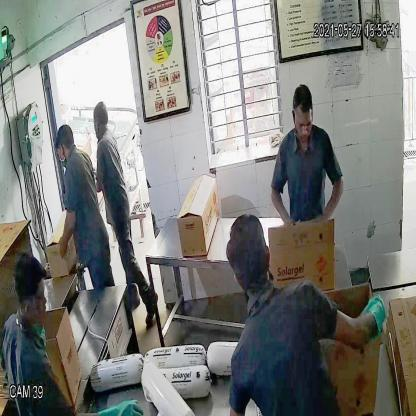no_goggles: (291, 112, 316, 134)
